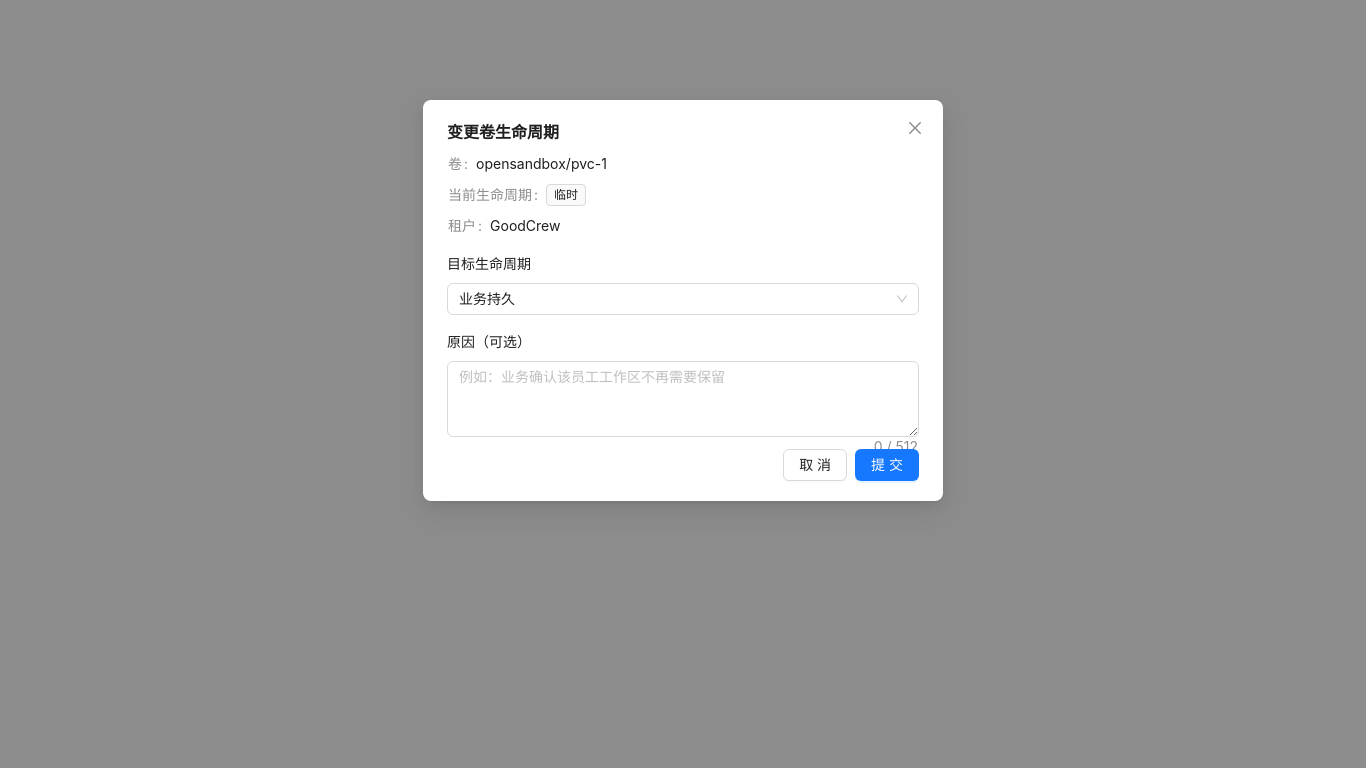
Test: VolumeLifecycleModal › warns instead of showing success when the PVC label patch is pending
This screenshot has width=1366, height=768.
Click the button "提 交".
click(887, 465)  # box x1=855 y1=449 x2=919 y2=481
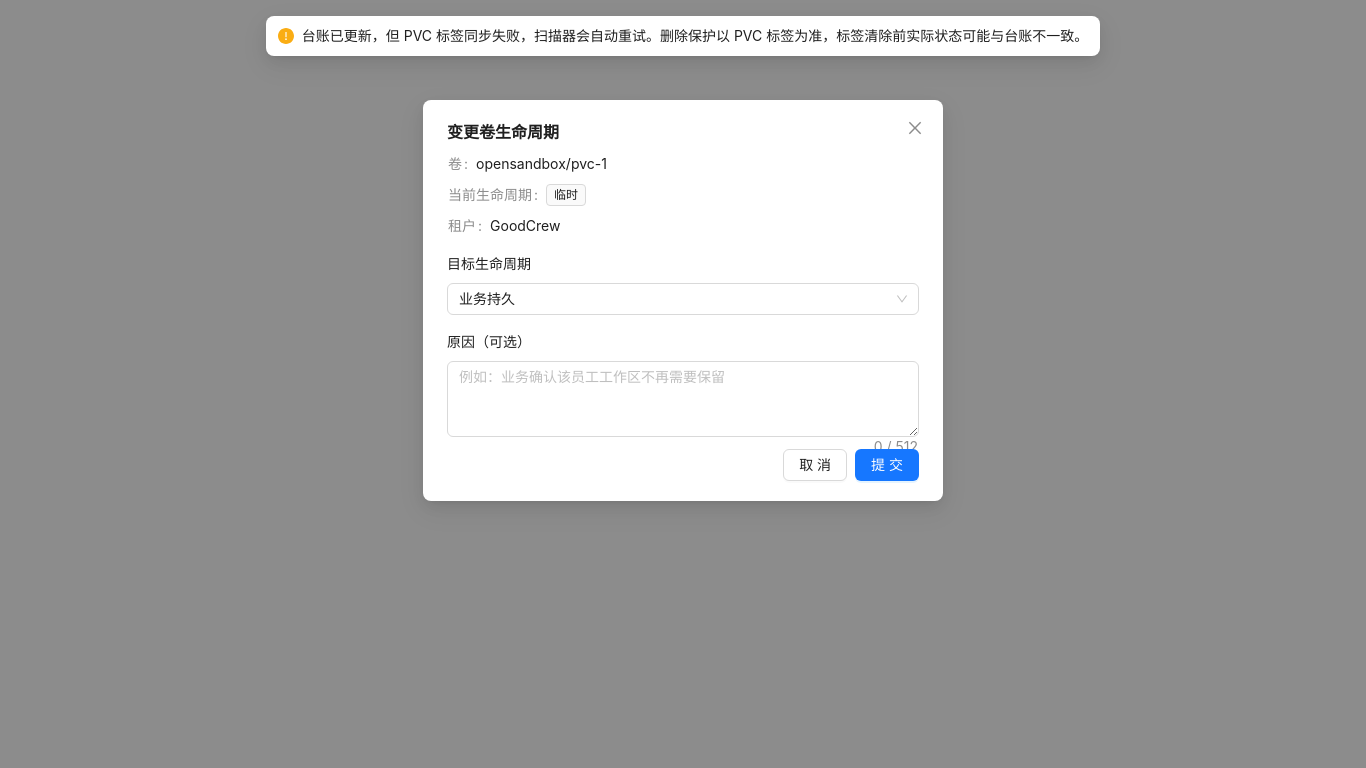
Result: the text "标签同步失败" is shown at x1=302 y1=27 x2=1088 y2=44
